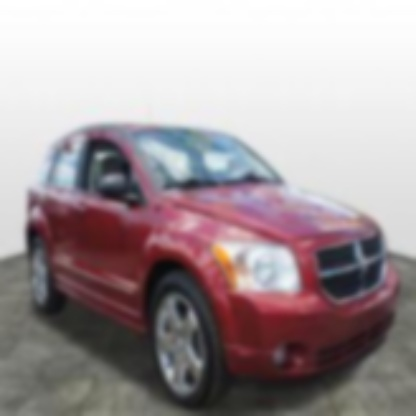Vehicle: (22, 114, 405, 414)
